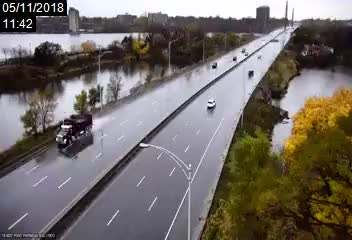personal_car: (206, 98, 216, 109), (248, 69, 254, 76), (211, 61, 217, 68)
truck: (55, 113, 93, 148)
